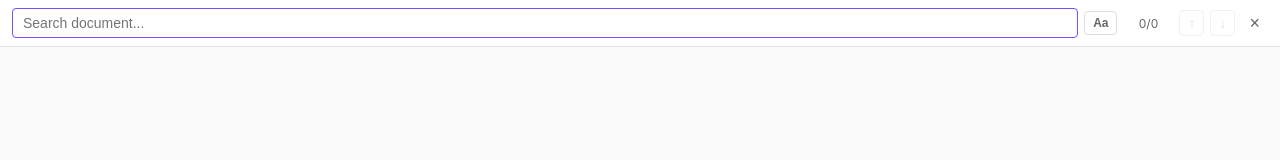
Scenario: SearchPanel › the Aa toggle switches case sensitivity
The width and height of the screenshot is (1280, 160).
Type "Brown" into the field with placeholder "Search document..." at [545, 23], box [12,8,1078,38]
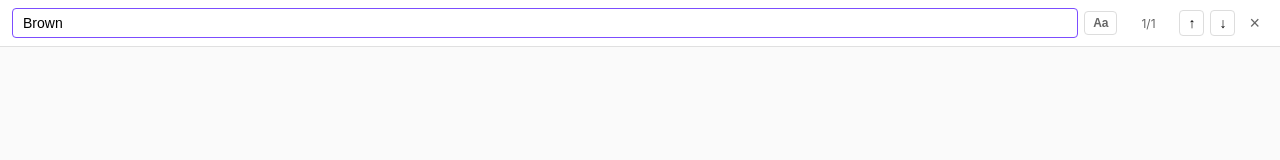
Check: the text "1/1" is shown, box [1141,16,1156,30]
Click the button titled "Case sensitive" at [1101, 23], box [1084,11,1117,35]
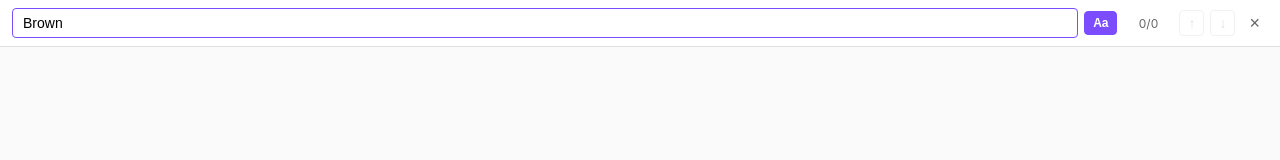
Check: the text "0/0" is shown, box [1139,16,1158,30]
